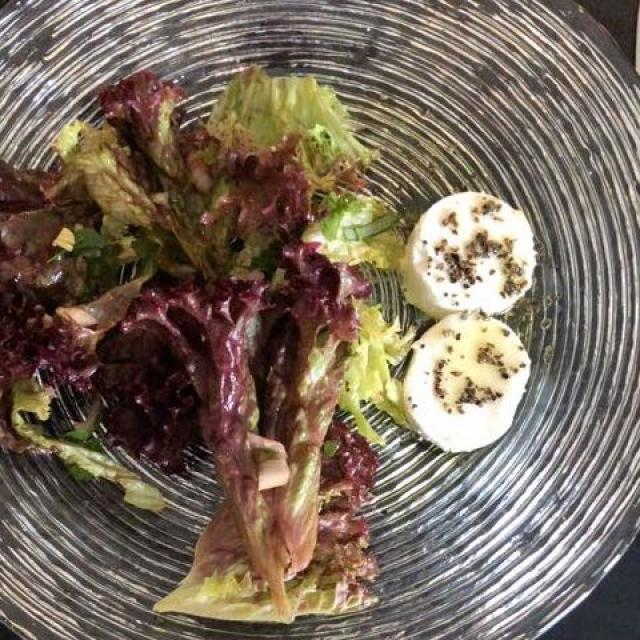goat-average-raw: (390, 174, 551, 474)
salad-dressing: (92, 187, 540, 522)
salad-leaf-salad-green: (15, 38, 404, 629)
